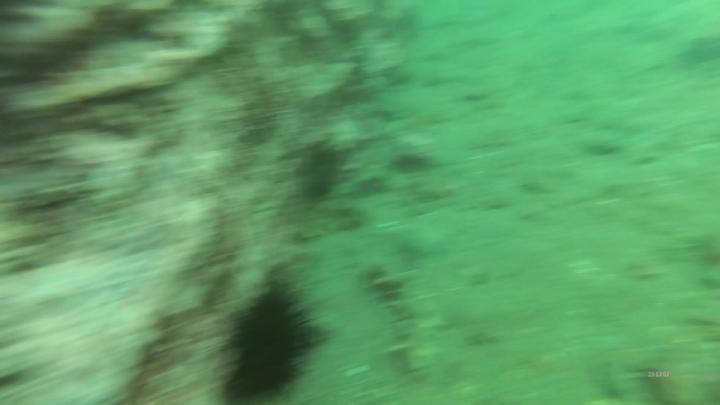echinus: (229, 281, 309, 405)
holothurian: (370, 264, 439, 380)
